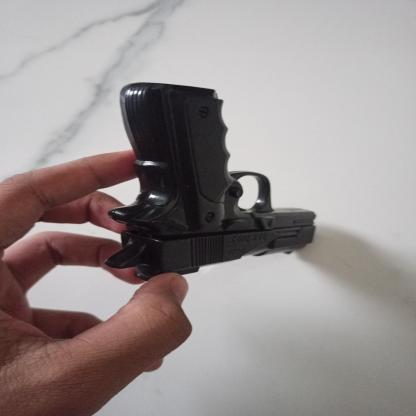handgun: (104, 82, 319, 283)
